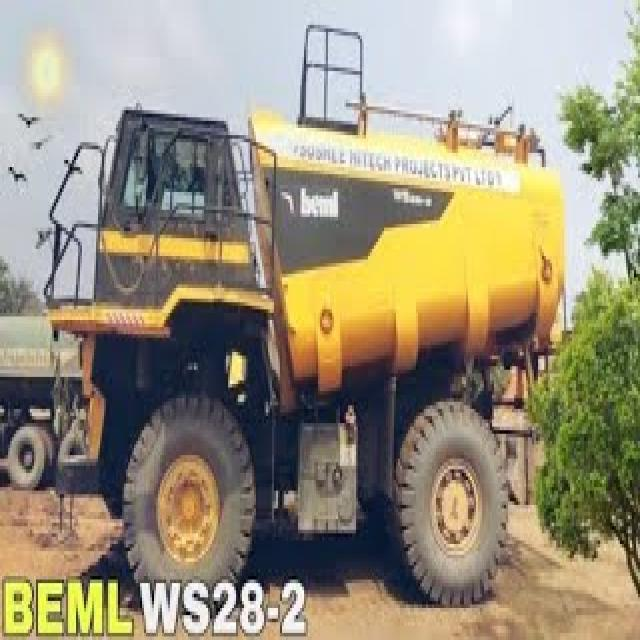dump_truck: (38, 20, 576, 617)
